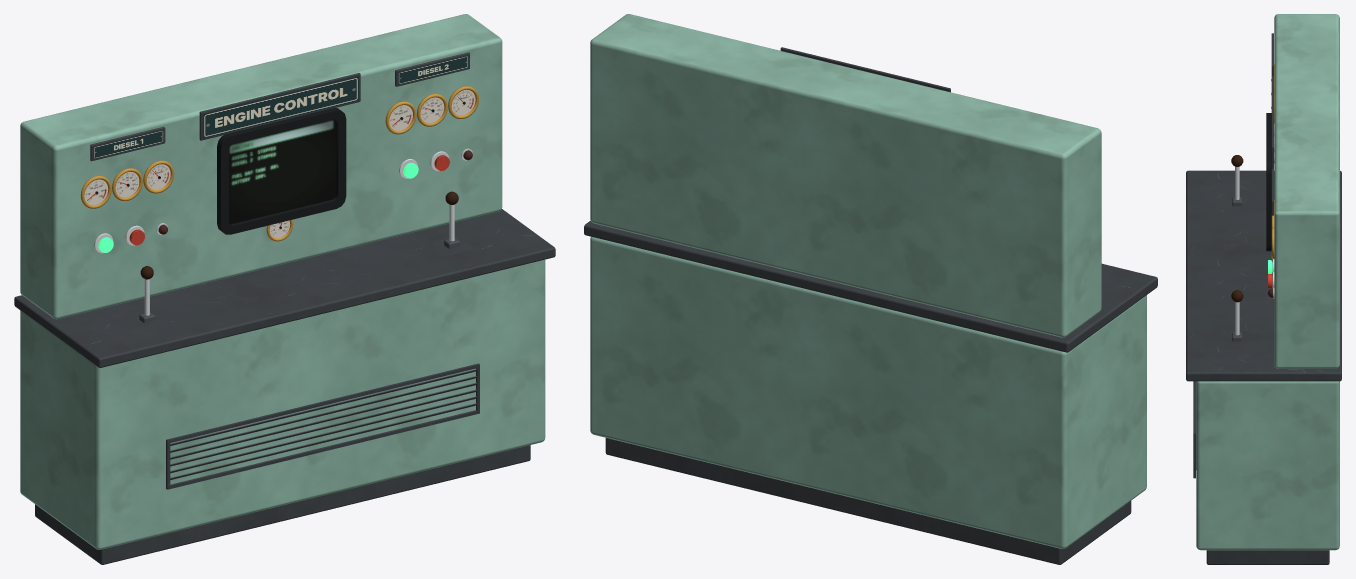
File: EngineConsole.glb
3 renders of one model, left to right at view 1: azimuth 30°, elevation 25°; view 2: azimuth 150°, elevation 25°; view 3: azimuth 270°, elevation 25°, orthographic. The views are drawn at different scales.
Visible parts, largest first — view 1: EngineConsole_Body; view 2: EngineConsole_Body; view 3: EngineConsole_Body, EngineConsole_Throttle1, EngineConsole_Throttle2.
Boxes of the visible parts, x1,y1,x2,y2 form: EngineConsole_Body: (14, 14, 555, 564); EngineConsole_Body: (584, 14, 1157, 564); EngineConsole_Body: (1186, 14, 1341, 564); EngineConsole_Throttle1: (1231, 155, 1243, 206); EngineConsole_Throttle2: (1231, 290, 1243, 341).
Bounding box in the file's own units: 2.34 × 1.93 × 0.76.
17 materials, 10 textured.
